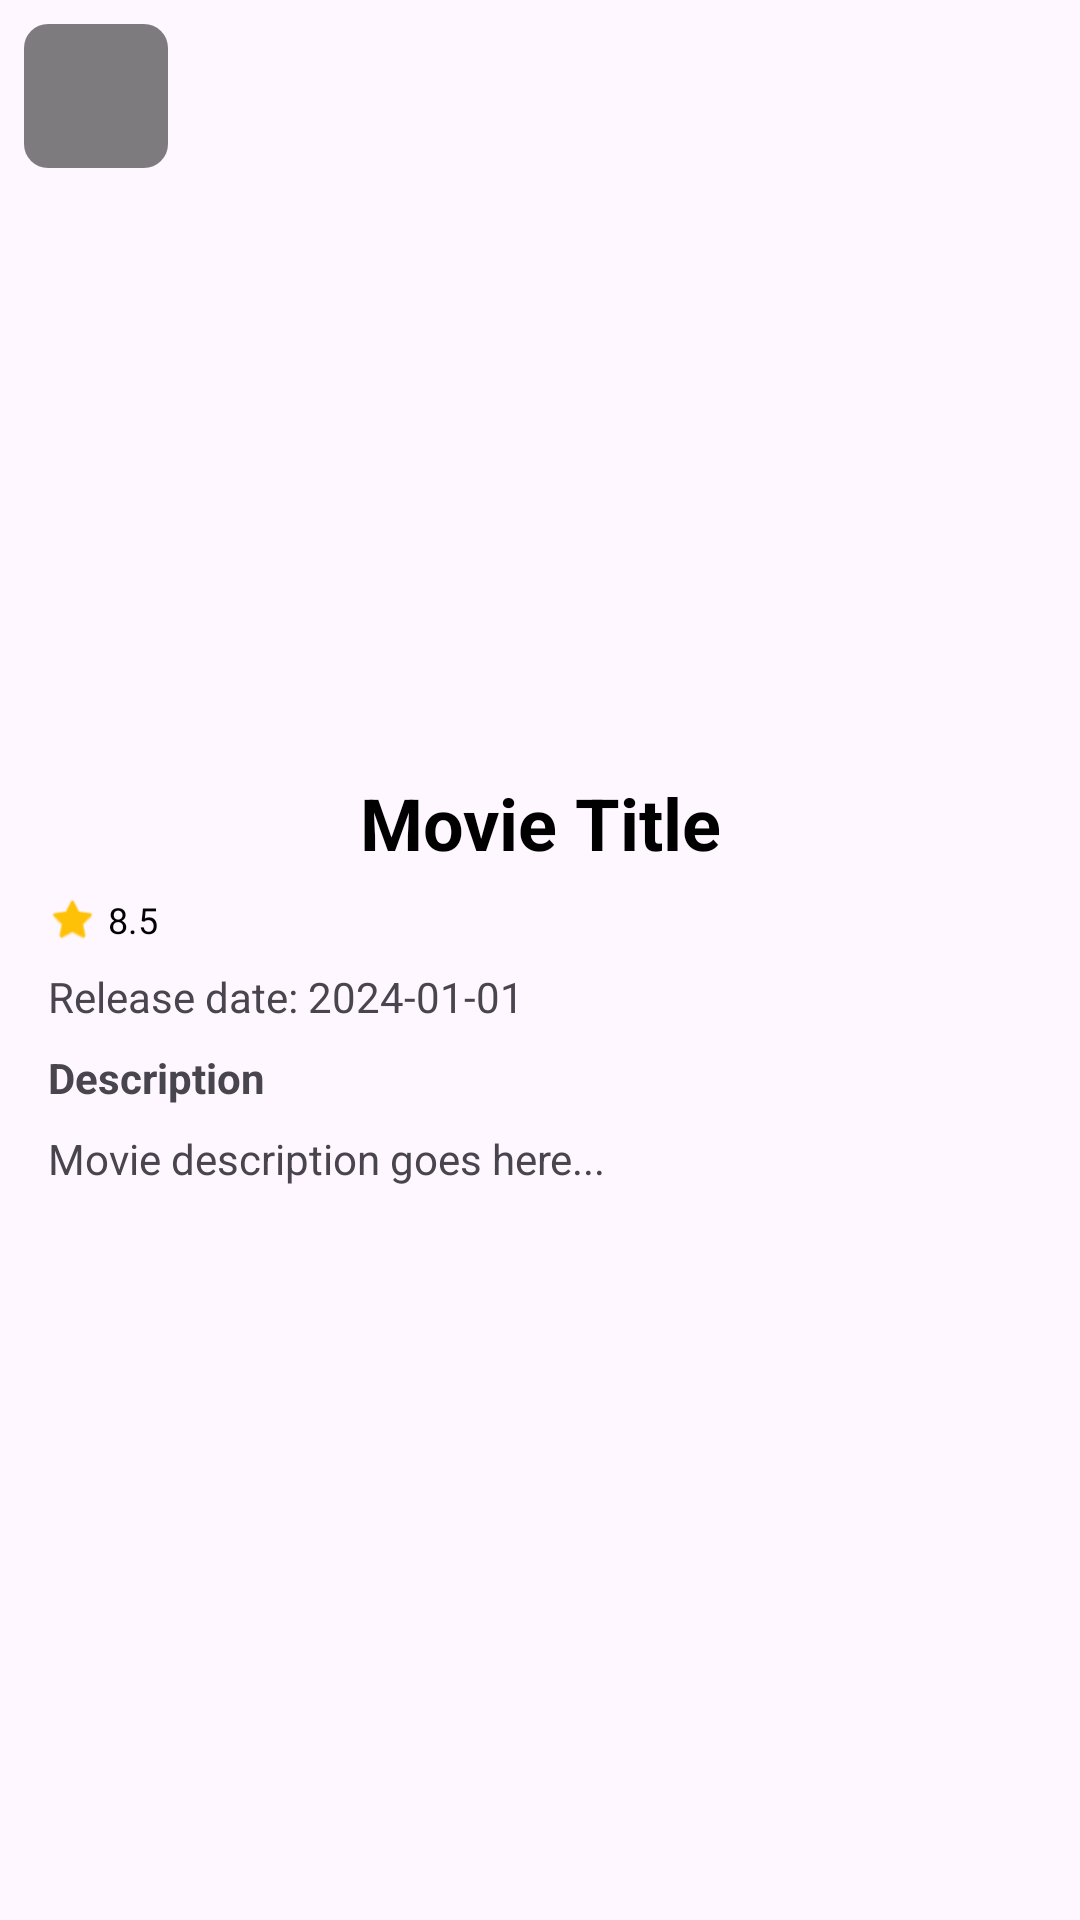

Icons on this 1080×1920 Android screen, each with the point to tap as (x=x, y=y):
star on: (x=72, y=919)
